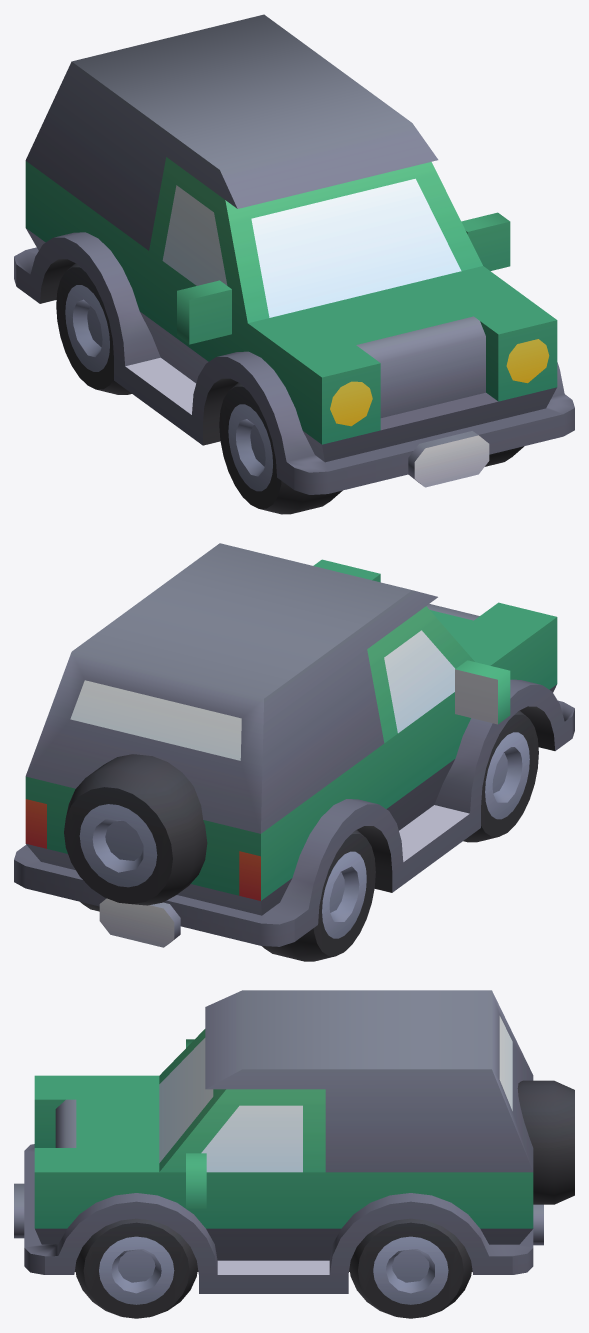
Rendered from traffic_suv.glb.
The picture shows the model from 3 angles, top to bottom: view 1: azimuth 30°, elevation 25°; view 2: azimuth 150°, elevation 25°; view 3: azimuth 270°, elevation 25°; orthographic projection. The views are drawn at different scales.
Visible parts, largest first — view 1: body; view 2: body; view 3: body.
Boxes of the visible parts, box(x1,y1,x2,y2) form: body: box(14, 14, 574, 514); body: box(14, 543, 574, 961); body: box(14, 990, 574, 1318).
Bounding box in the file's own units: 1.5 × 1.3 × 2.7.
1 material, 1 textured.
